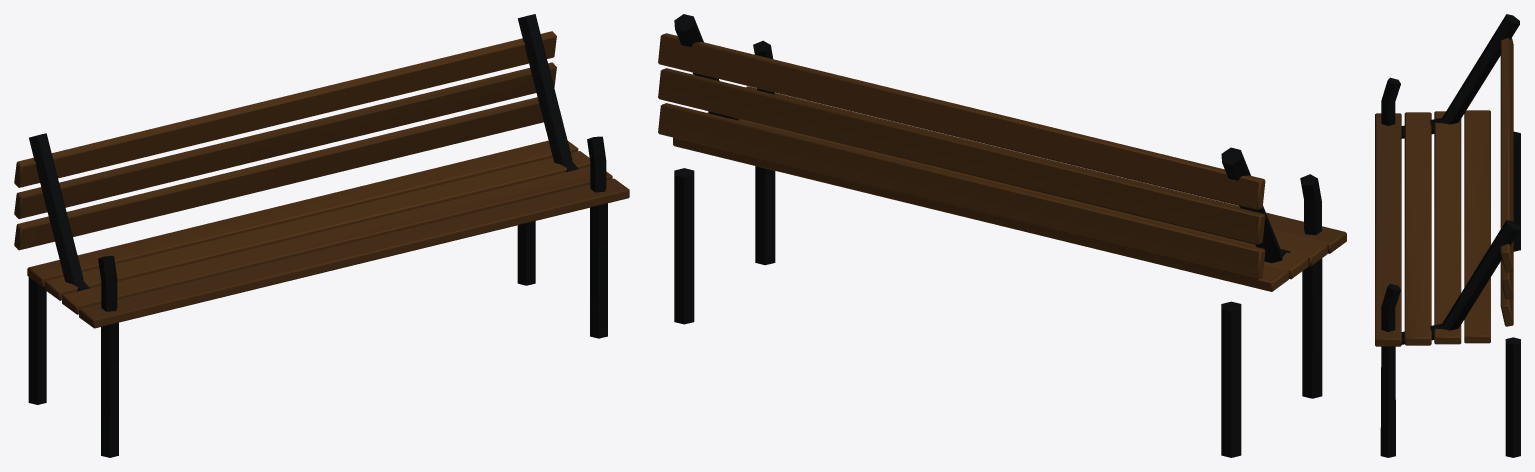
Rendered from hz-bench-park.glb.
3 views of the same model, side by side, from view 1: azimuth 30°, elevation 25°; view 2: azimuth 150°, elevation 25°; view 3: azimuth 270°, elevation 25° (orthographic). The views are drawn at different scales.
Visible parts, largest first — view 1: slats__wood, ends__metal; view 2: slats__wood, ends__metal; view 3: slats__wood, ends__metal.
Part boxes in pixels (bbox=[...]): slats__wood: bbox=[14, 31, 629, 328]; ends__metal: bbox=[28, 14, 607, 457]; slats__wood: bbox=[658, 33, 1346, 291]; ends__metal: bbox=[674, 14, 1322, 457]; slats__wood: bbox=[1375, 38, 1513, 346]; ends__metal: bbox=[1380, 14, 1520, 457].
Bounding box in the file's own units: 1.8 × 0.8628 × 0.491.
